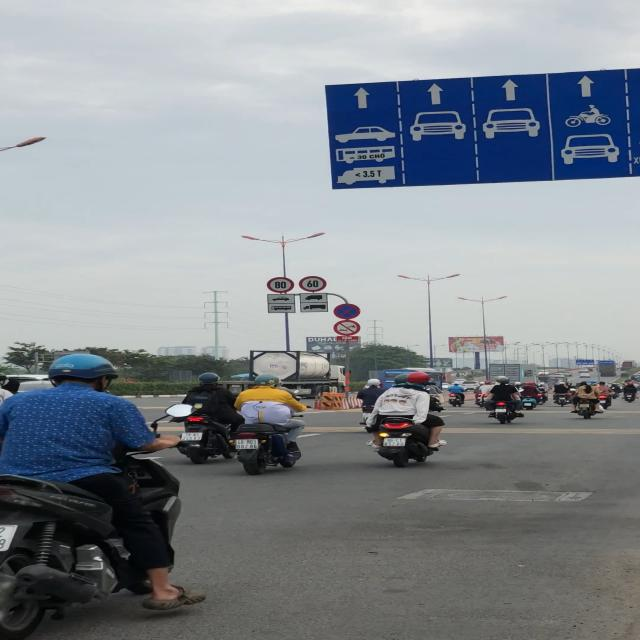Bien bao cam dung xe va do xe: (333, 303, 361, 320)
Bien bao toc do toi da cho phep: (266, 275, 294, 294), (299, 275, 327, 293)
